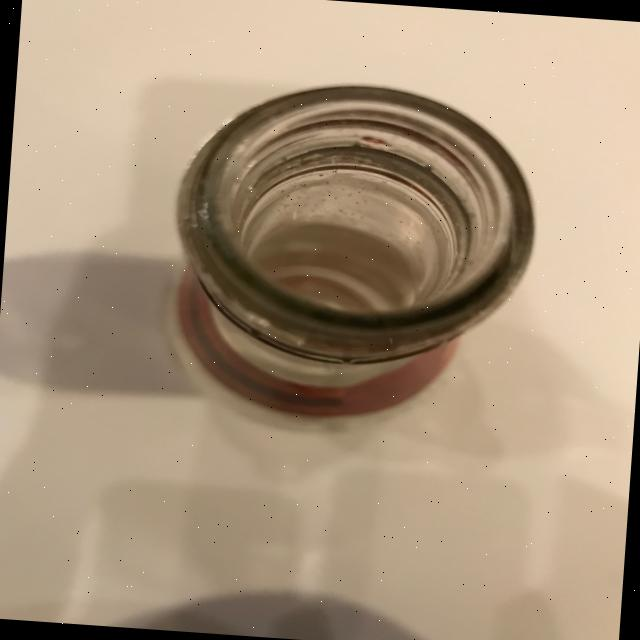glass: (159, 70, 545, 432)
